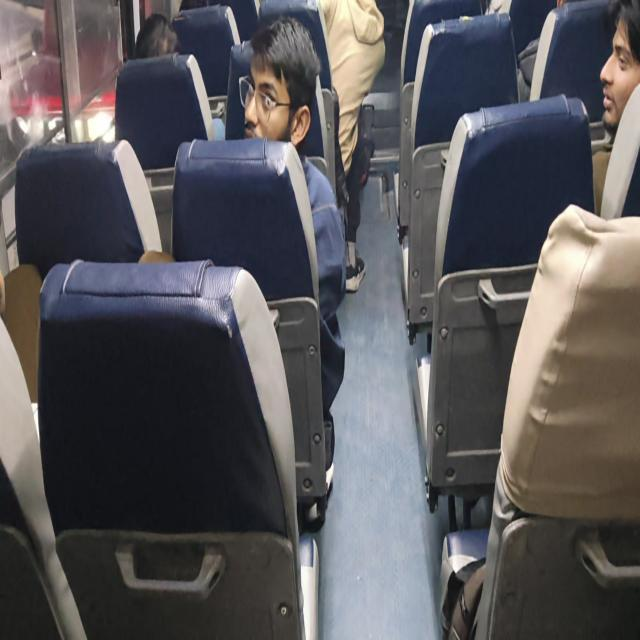person: (438, 0, 640, 637), (238, 16, 347, 505), (318, 0, 386, 292), (590, 0, 640, 216), (134, 12, 179, 58)
